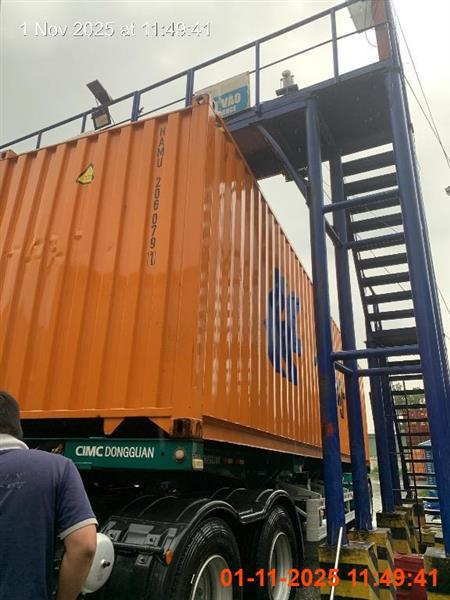crack: (1, 0, 447, 599), (0, 390, 99, 599)
